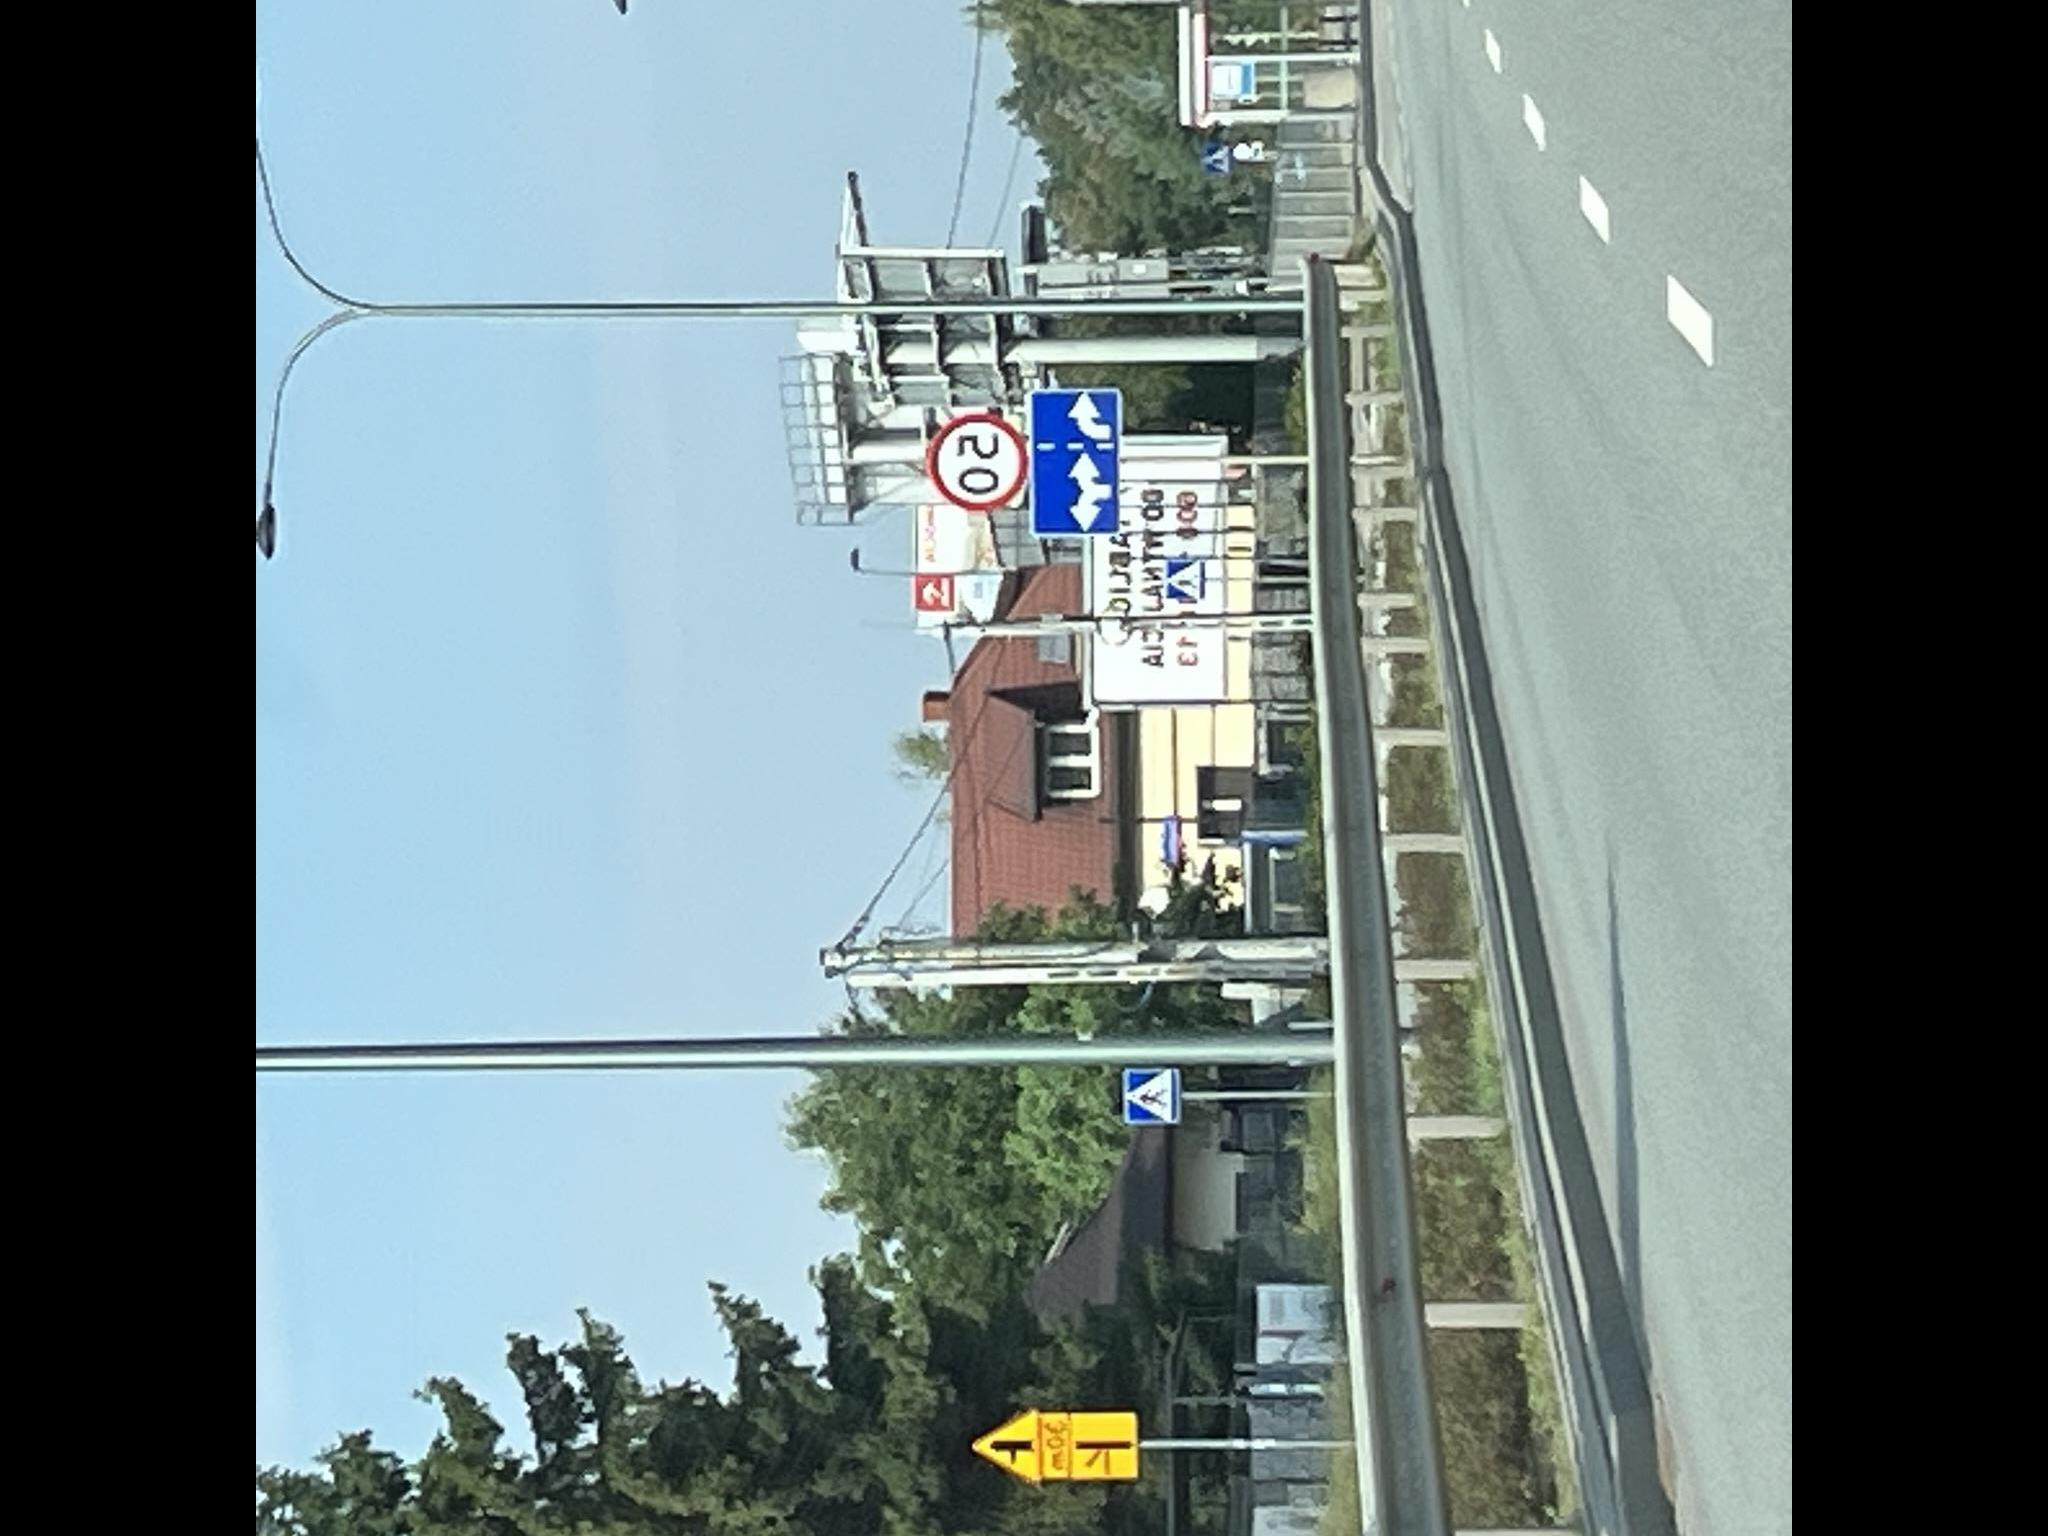information: (1121, 1062, 1184, 1126), (1166, 558, 1206, 602)
other: (1024, 384, 1122, 536), (1072, 1404, 1143, 1486), (1043, 1410, 1071, 1480)
prohibitory: (924, 411, 1027, 511)
warning: (971, 1405, 1047, 1488)
